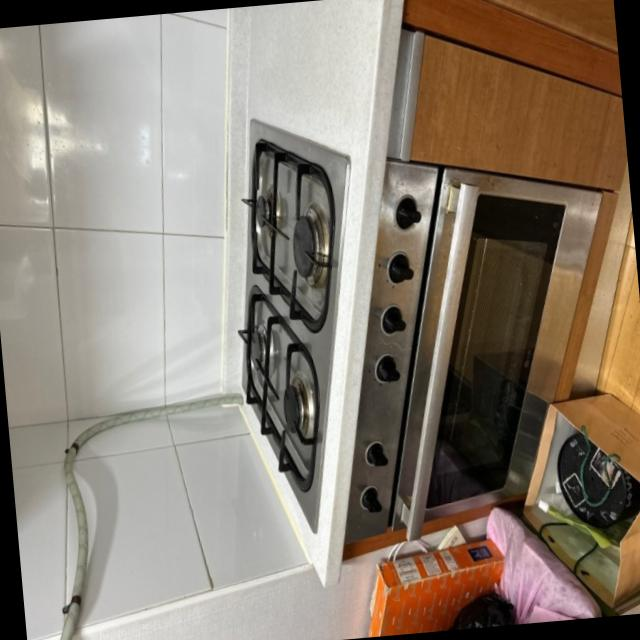knob_OFF: (282, 184, 342, 329), (278, 329, 324, 505), (225, 289, 274, 441), (227, 166, 272, 274)
